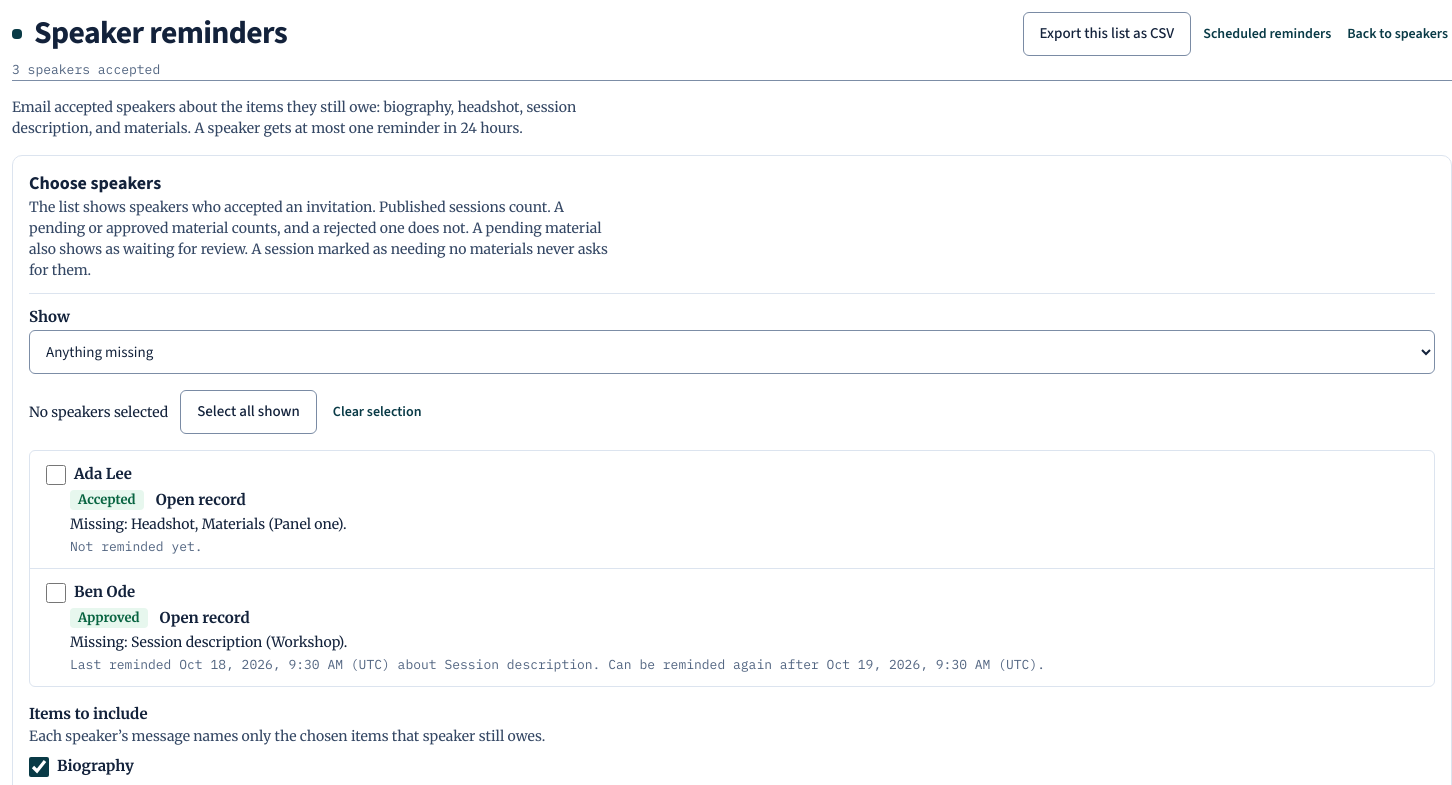
Test: speaker reminders list › shows the materials waiting for review as their own group, and exports that group
The image size is (1452, 785).
Check: the list named "Accepted speakers" is shown, box [29,450,1435,687]
Select "Materials waiting for review" in the dropdown labelled "Show" at (732, 352), box [29,330,1435,374]
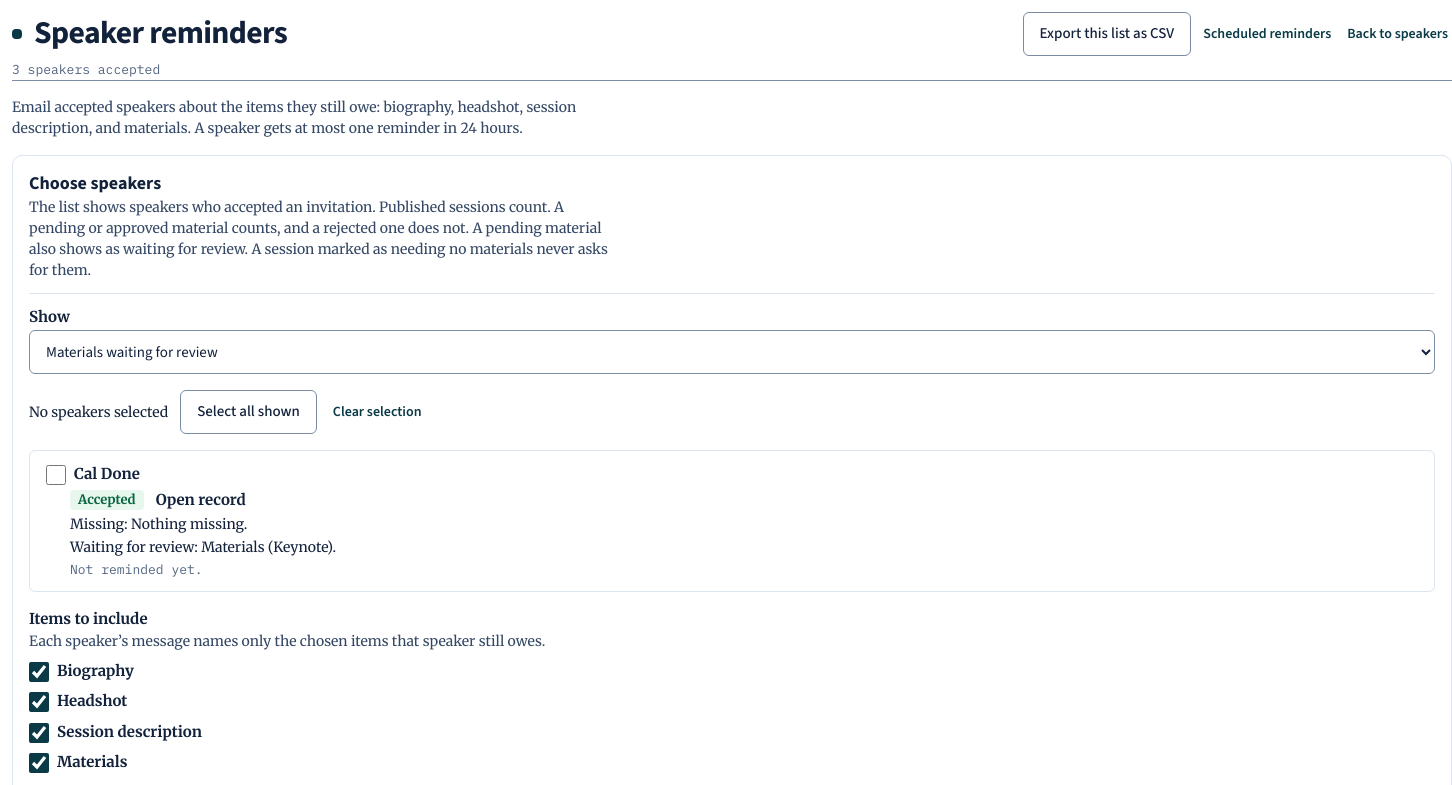
Check: the number of list items is 1, box [46,464,336,578]
Check: the text "Missing: Nothing missing." is shown, box [70,515,247,533]
Check: the text "Waiting for review: Materials (Keynote)." is shown, box [46,537,336,558]
Click the button "Export this list as CSV".
click(1107, 34)  # box [1023,12,1191,56]
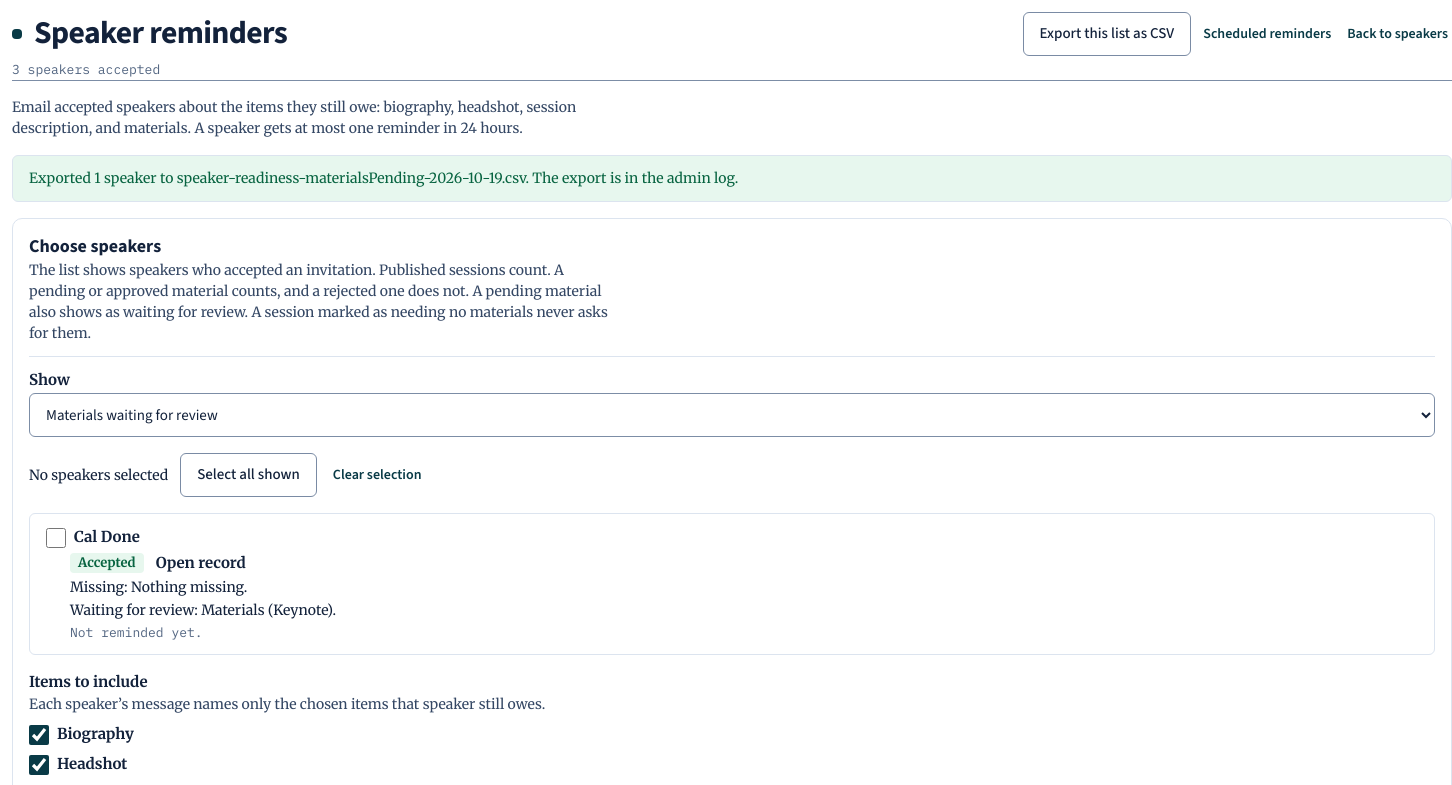
Check: the text "Exported 1 speaker to speaker-readiness-materialsPending-2026-10-19.csv" is shown, box [29,168,738,186]
